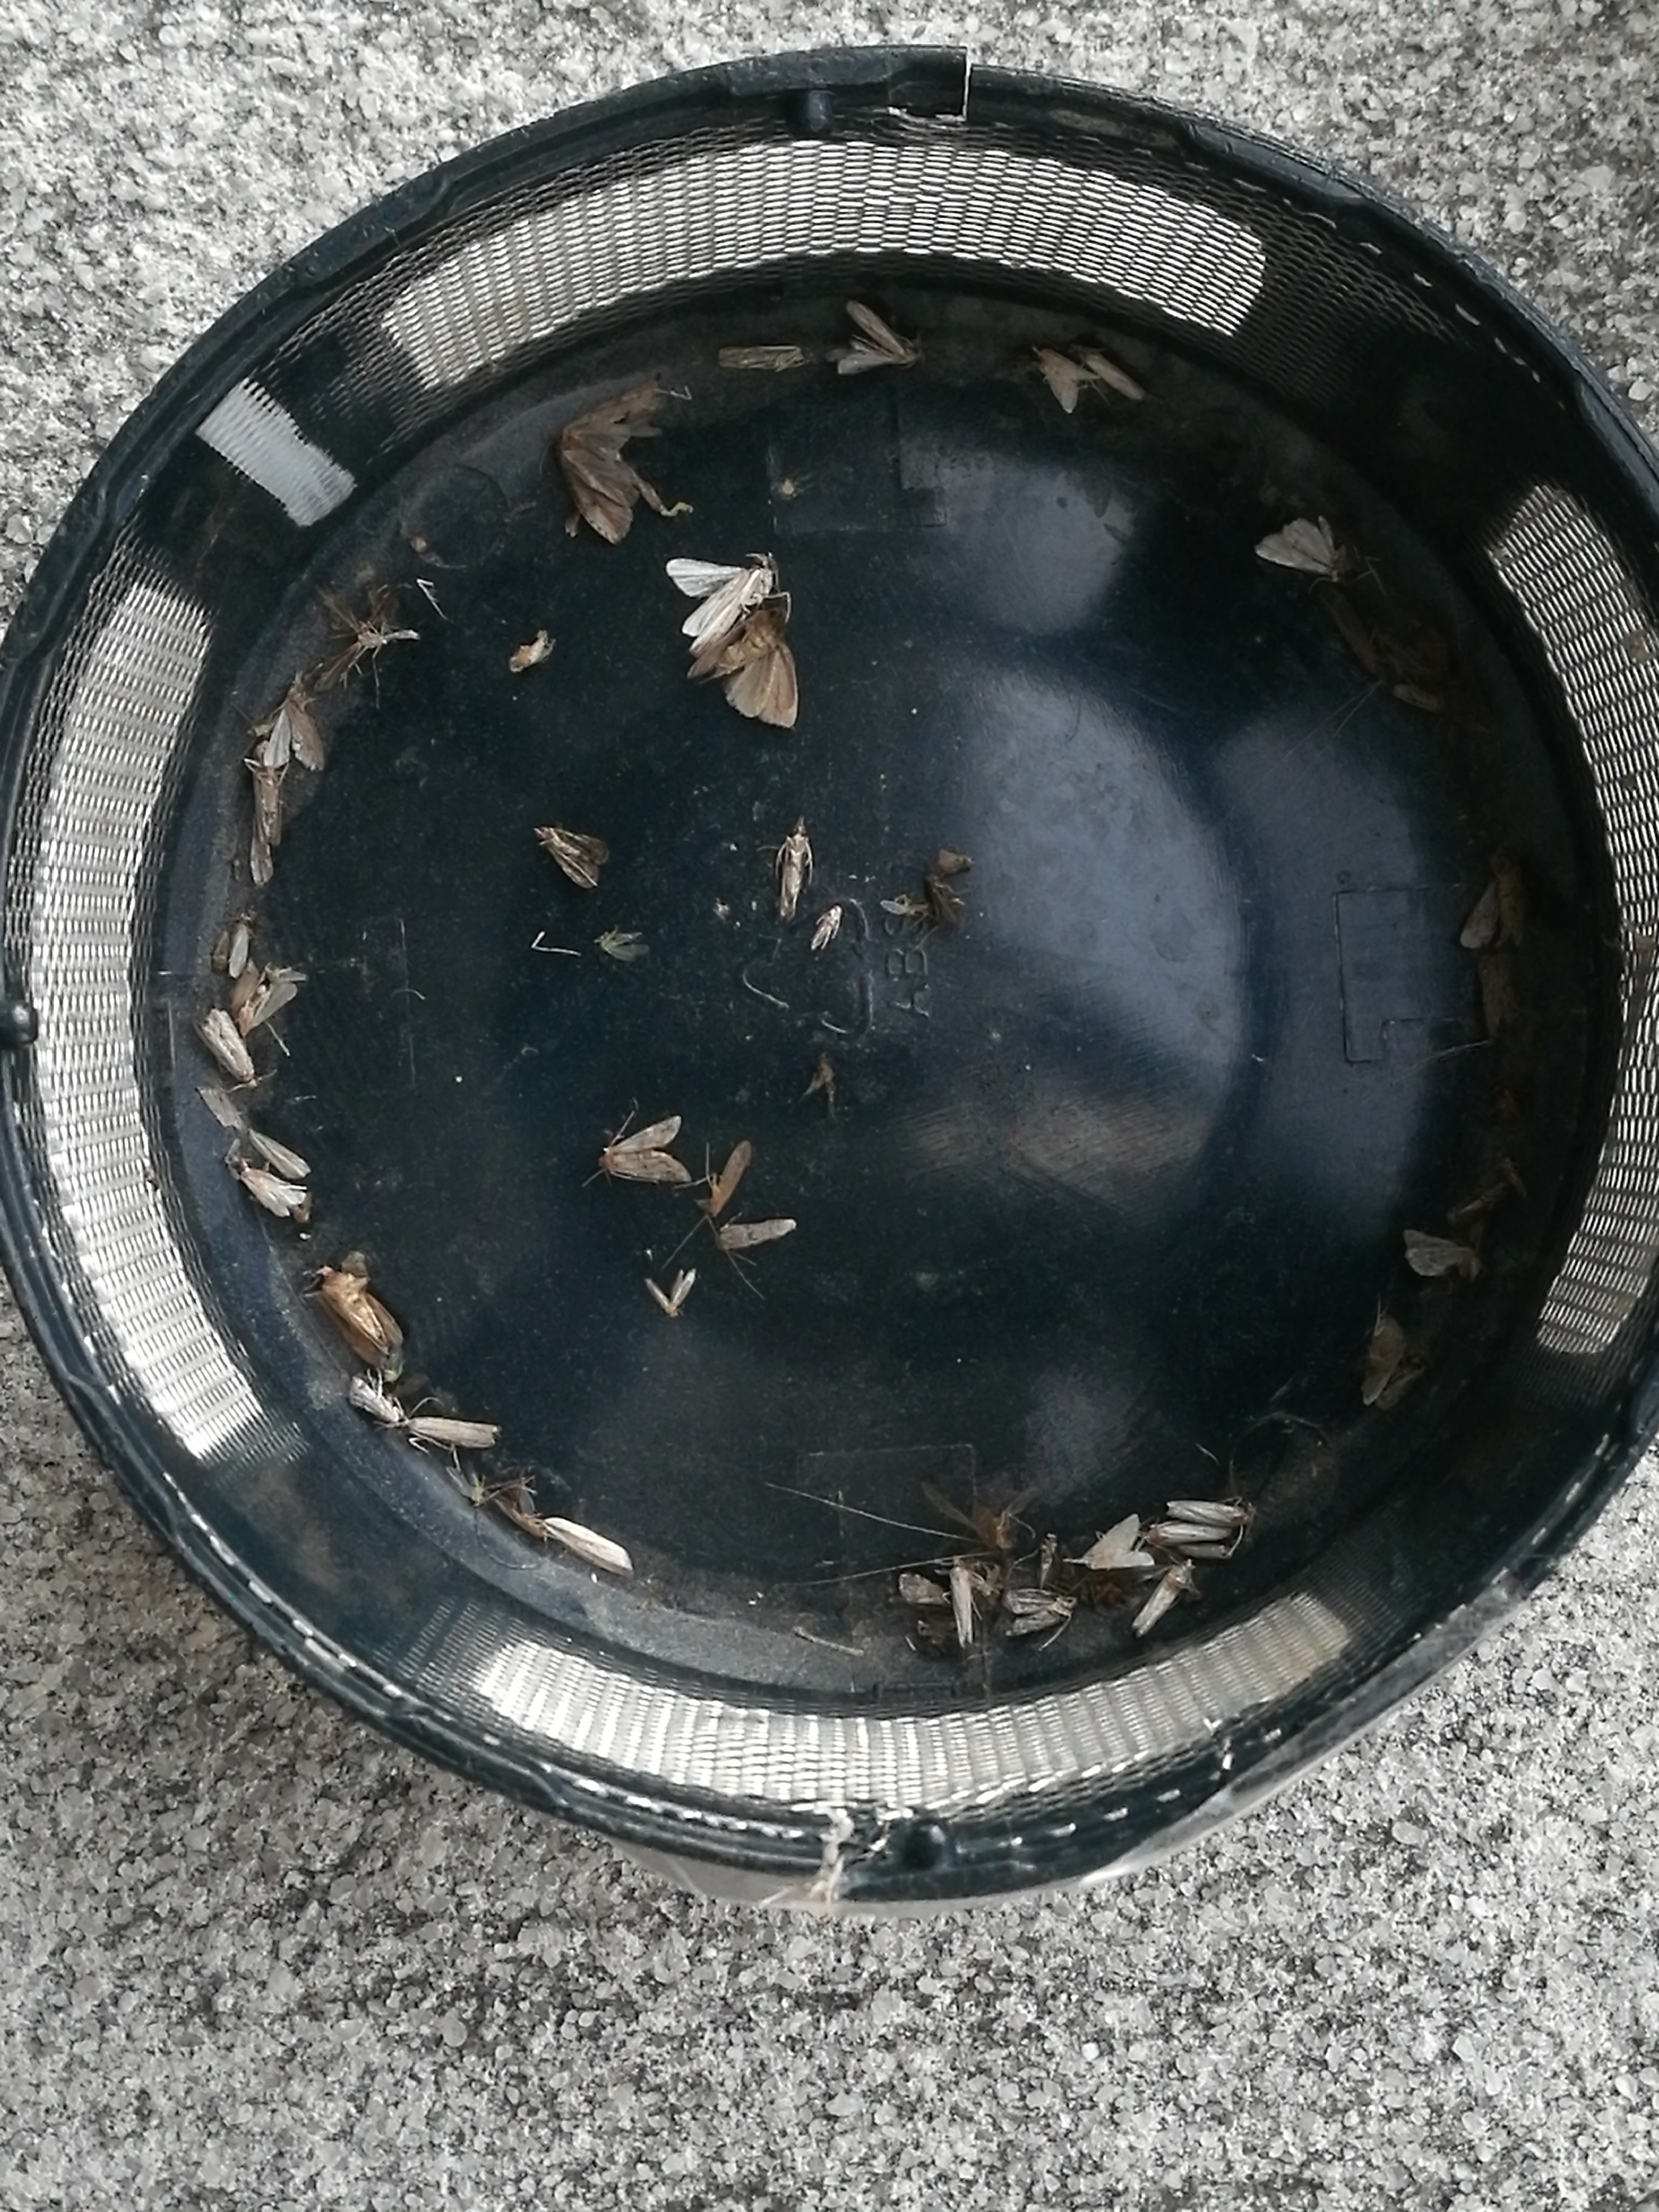mosquito: (1321, 583, 1377, 679), (193, 1008, 256, 1089), (1066, 343, 1145, 404), (1134, 1559, 1194, 1634), (403, 1414, 502, 1449), (708, 1141, 751, 1216), (1481, 953, 1513, 1042), (349, 1376, 404, 1425), (716, 1216, 796, 1249), (256, 742, 279, 846), (784, 817, 807, 916), (718, 347, 803, 371), (1453, 1183, 1513, 1217), (493, 1496, 545, 1533), (1166, 1501, 1244, 1524), (509, 632, 552, 672), (922, 874, 955, 925), (953, 1559, 972, 1646), (1150, 1522, 1229, 1543), (810, 902, 843, 948), (1391, 686, 1450, 711), (1004, 1590, 1075, 1609), (1039, 1533, 1058, 1590), (230, 923, 247, 977), (1180, 1543, 1227, 1561)
moth: (554, 381, 664, 545), (687, 606, 798, 726), (664, 554, 777, 657), (314, 1266, 403, 1367), (824, 300, 924, 376), (1460, 846, 1525, 949), (599, 1115, 690, 1184), (265, 671, 326, 773), (1256, 514, 1345, 578), (230, 960, 296, 1036), (533, 827, 608, 888), (1082, 1514, 1154, 1569), (1040, 348, 1098, 413), (239, 1160, 305, 1216)
